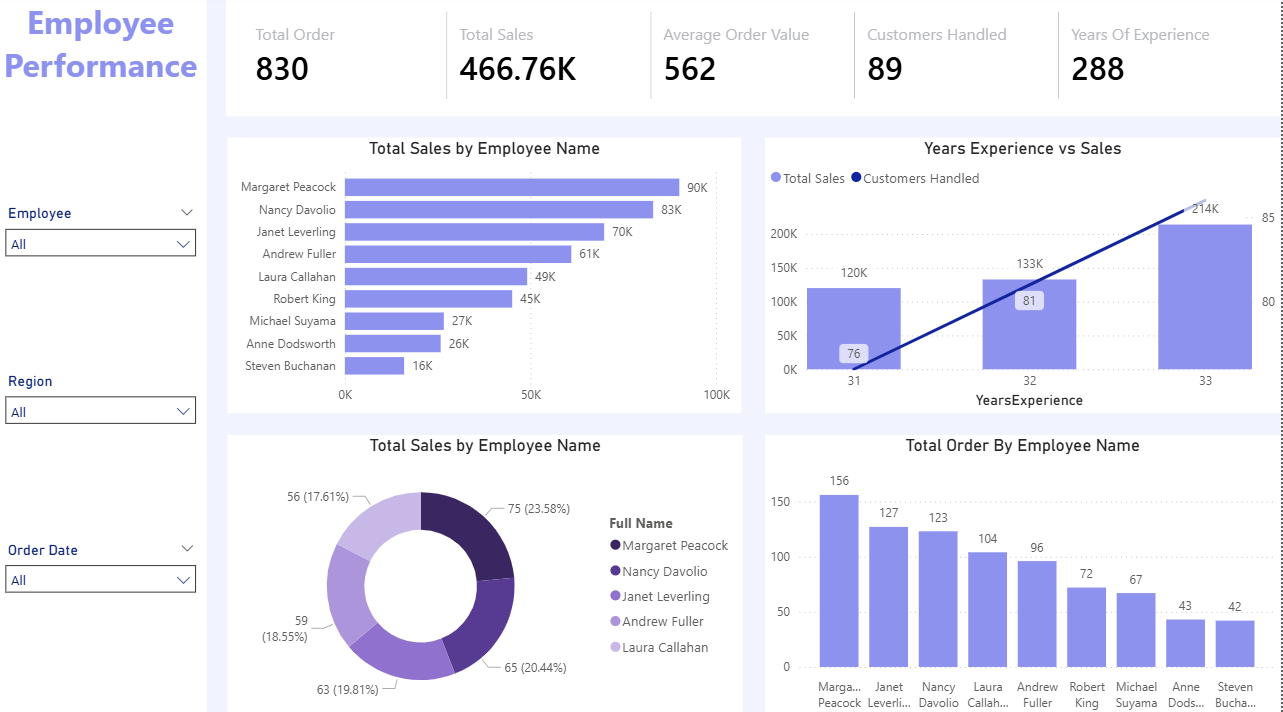

The dashboard page shown, as its layout file describes it:
{"tool":"powerbi","page":{"name":"Page 5","canvas":[1280,720],"ordinal":4},"visuals":[{"type":"cardVisual","fields":{"Data":["Dax Sales.Total_Order","Dax Sales.Total Sales","Dax Sales.Average_Order_Value","Dax Employee.Customers Handled","Sum(Dim Employees.YearsExperience)"]},"box":[230.4,0,1049.6,120.4],"z":0},{"type":"shape","box":[0,0,210.4,720],"z":1000},{"type":"textbox","box":[0,0,210,120.2],"z":2000},{"type":"slicer","fields":{"Values":["Dim Employees.Full Name"]},"box":[0,203.8,210,82.2],"z":3000},{"type":"slicer","fields":{"Values":["Dim Employees.region"]},"box":[0,371.1,210,82.2],"z":4000},{"type":"slicer","fields":{"Values":["Dim Order Date.orderDate Hierarchy.Year","Dim Order Date.orderDate Hierarchy.Month","Dim Order Date.orderDate Hierarchy.Day"]},"box":[0,538.5,210.3,82.1],"z":5000},{"type":"clusteredBarChart","title":"Total Sales by Employee Name","fields":{"Category":["Dim Employees.Full Name"],"Y":["Dax Sales.Total Sales"]},"box":[230.8,142.3,511.5,274.4],"z":6000},{"type":"lineClusteredColumnComboChart","title":"Years Experience vs Sales","fields":{"Y":["Dax Sales.Total Sales"],"Y2":["Dax Employee.Customers Handled"],"Category":["Dim Employees.YearsExperience"]},"box":[766.7,142.3,512.8,274.4],"z":7000},{"type":"donutChart","title":"Total Sales by Employee Name","fields":{"Category":["Dim Employees.Full Name"],"Y":["Dax Employee.Customers Handled"]},"box":[230.8,438.5,512.8,282.1],"z":8000},{"type":"clusteredColumnChart","title":"Total Order By Employee Name","fields":{"Category":["Dim Employees.Full Name"],"Y":["Dax Sales.Total_Order"]},"box":[766.7,438.5,512.8,282.1],"z":9000}]}

Visuals, with their boxes in screenshot pixels (x1, y1, x2, y2), scaled from the page's 1280x720 canvas onto the 1283x712 screenshot:
cardVisual - Dax Sales.Total_Order x Dax Sales.Total Sales: {"left": 231, "top": 0, "right": 1282, "bottom": 119}
shape: {"left": 0, "top": 0, "right": 211, "bottom": 711}
textbox: {"left": 0, "top": 0, "right": 210, "bottom": 119}
slicer - Dim Employees.Full Name: {"left": 0, "top": 202, "right": 210, "bottom": 283}
slicer - Dim Employees.region: {"left": 0, "top": 367, "right": 210, "bottom": 448}
slicer - Dim Order Date.orderDate Hierarchy.Year x Dim Order Date.orderDate Hierarchy.Month: {"left": 0, "top": 533, "right": 211, "bottom": 614}
"Total Sales by Employee Name" clusteredBarChart: {"left": 231, "top": 141, "right": 744, "bottom": 412}
"Years Experience vs Sales" lineClusteredColumnComboChart: {"left": 768, "top": 141, "right": 1282, "bottom": 412}
"Total Sales by Employee Name" donutChart: {"left": 231, "top": 434, "right": 745, "bottom": 711}
"Total Order By Employee Name" clusteredColumnChart: {"left": 768, "top": 434, "right": 1282, "bottom": 711}
